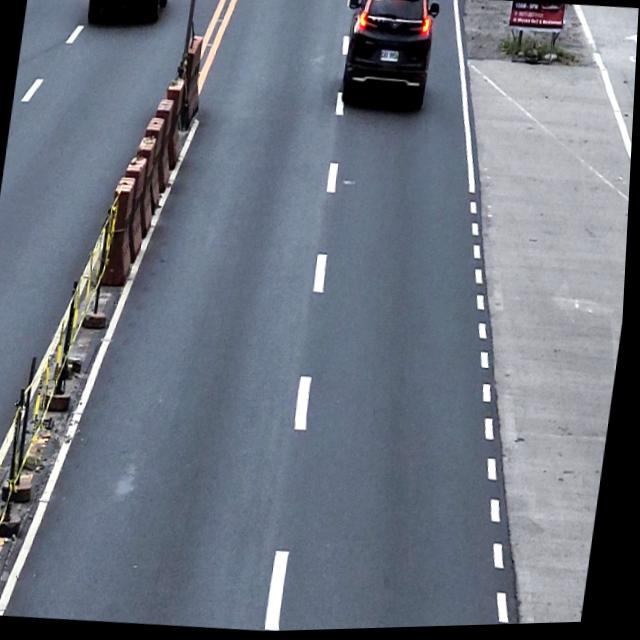Car: (335, 0, 442, 114), (85, 0, 169, 29)
License-Plate: (380, 49, 401, 66)
